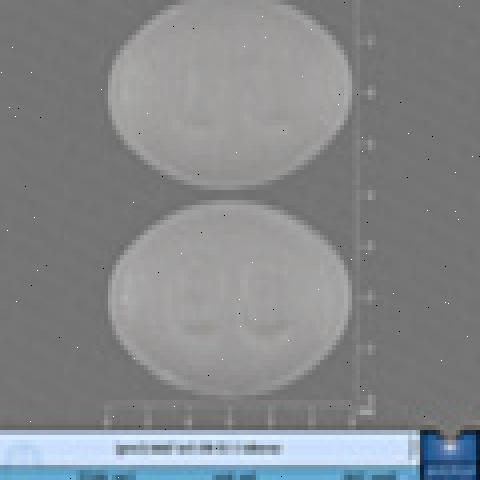Pill: (63, 196, 360, 406), (79, 2, 365, 194)
